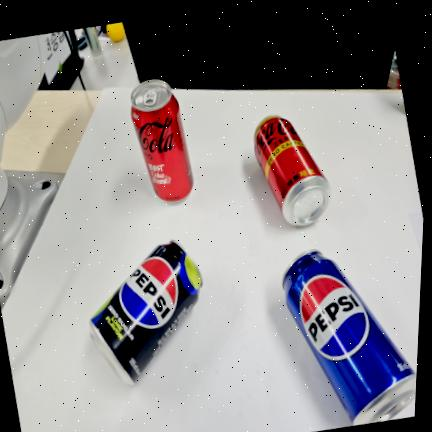can_coke_decaf: (254, 115, 331, 226)
can_coke_zero: (131, 80, 193, 202)
can_pepsi: (282, 250, 416, 426)
can_pepsi_zero: (90, 241, 203, 384)
